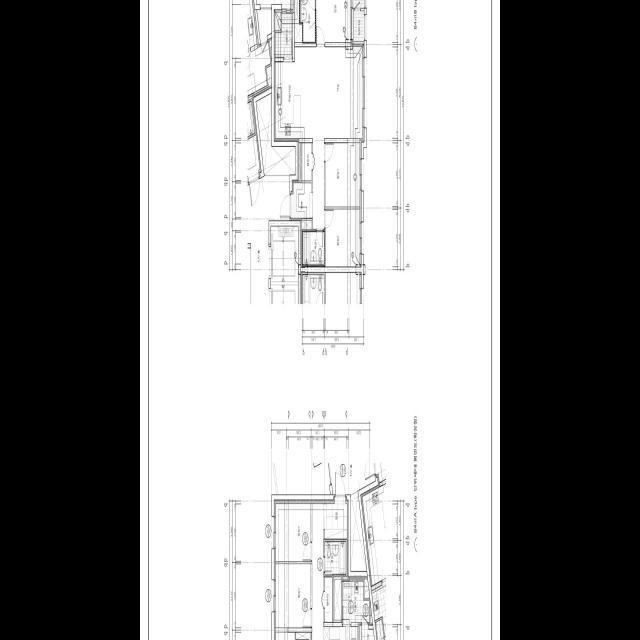space_bedroom: (276, 563, 310, 627), (326, 142, 360, 206), (325, 209, 360, 266), (276, 503, 310, 561), (316, 0, 351, 42)
space_elevator: (269, 226, 298, 281)
space_elevator_hall: (272, 448, 370, 570), (248, 93, 296, 304)
space_front: (325, 503, 347, 538), (291, 182, 312, 217)
space_kitchen: (275, 47, 303, 138), (324, 626, 358, 640)
space_living_room: (303, 46, 362, 229)
space_multipurpose_space: (342, 581, 369, 622), (275, 13, 293, 56)
space_other: (312, 503, 324, 640), (301, 142, 312, 180), (333, 576, 341, 621), (325, 577, 332, 621), (295, 0, 302, 42), (296, 632, 311, 640), (364, 579, 370, 597), (275, 12, 281, 30), (302, 220, 312, 229), (370, 602, 372, 622)
space_outdoor_room: (354, 10, 364, 41), (361, 624, 374, 640)
space_toilet: (303, 231, 324, 264), (325, 541, 346, 574), (300, 0, 315, 41)
